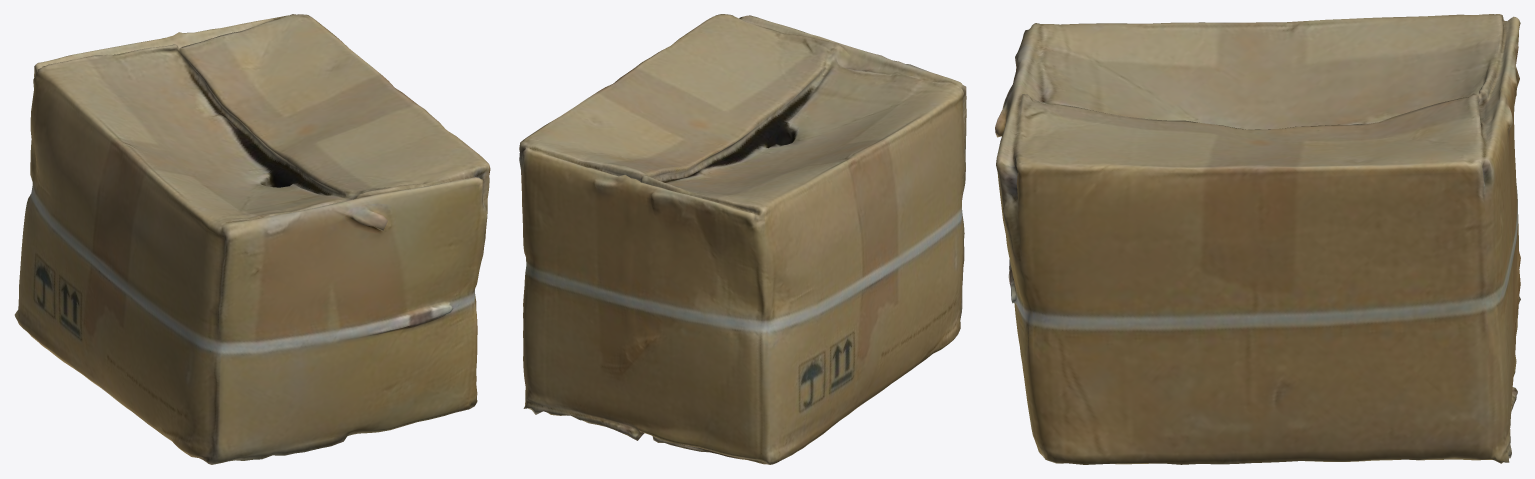
File: cardboard_box_01.glb
The picture shows the model from 3 angles, left to right: view 1: azimuth 30°, elevation 25°; view 2: azimuth 150°, elevation 25°; view 3: azimuth 270°, elevation 25°; orthographic projection. The views are drawn at different scales.
Parts seen in each view (by area): view 1: cardboard_box_01; view 2: cardboard_box_01; view 3: cardboard_box_01.
Boxes of the visible parts, x1=… form: cardboard_box_01: x1=14, y1=14, x2=490, y2=464; cardboard_box_01: x1=519, y1=14, x2=966, y2=464; cardboard_box_01: x1=995, y1=14, x2=1520, y2=464.
Bounding box in the file's own units: 0.387 × 0.3418 × 0.5159.
1 material, 1 textured.
